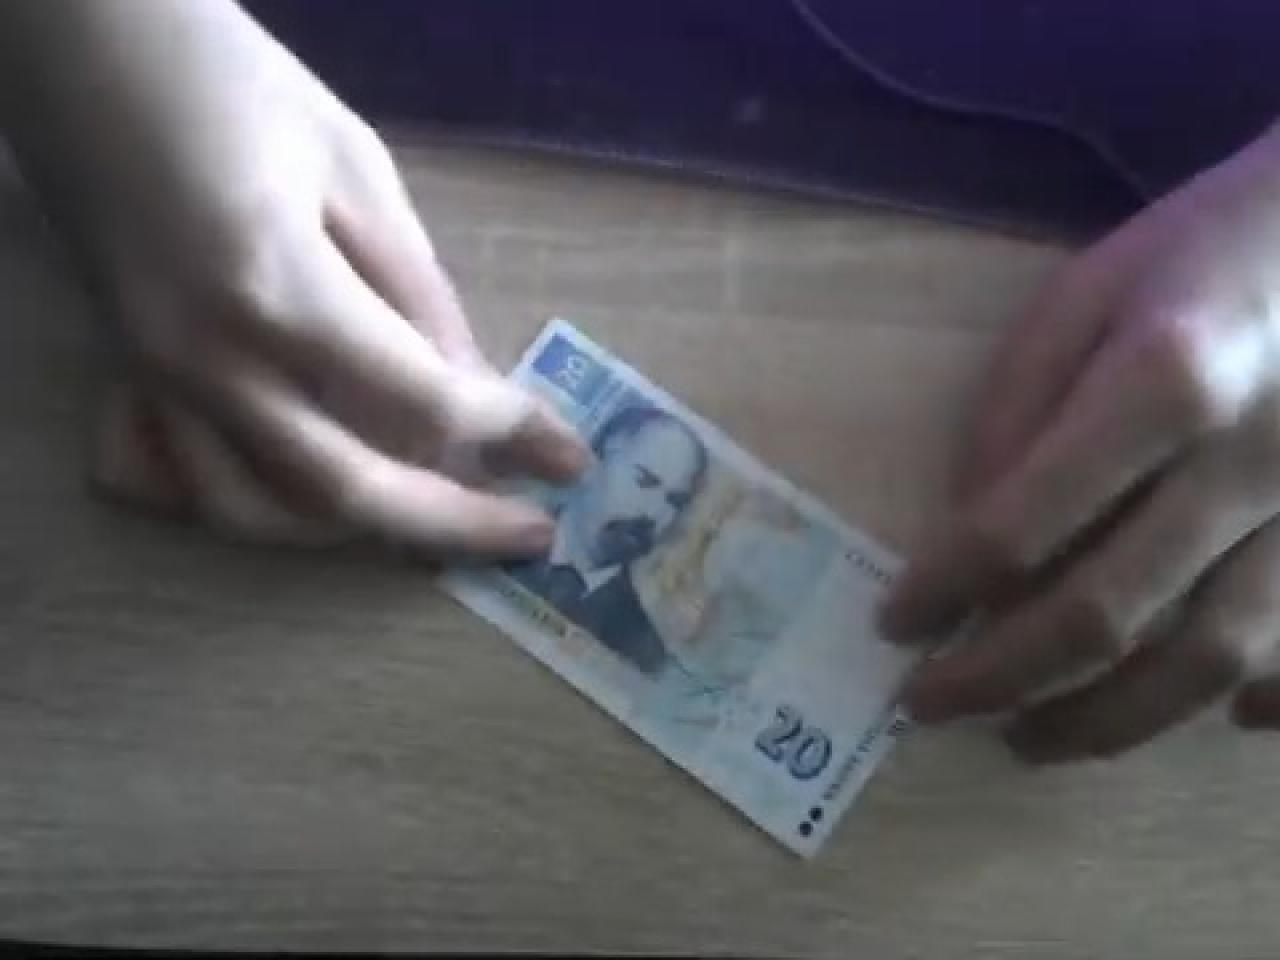20leva: (434, 320, 920, 864)
